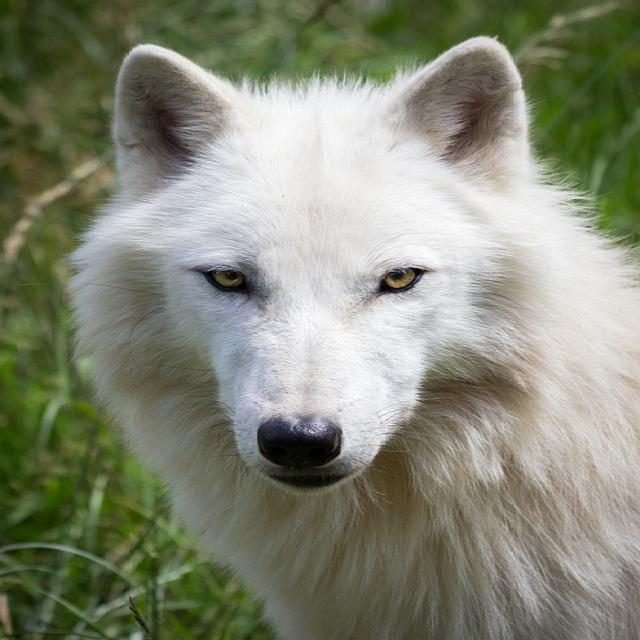Carnivorous: (66, 36, 640, 640)
